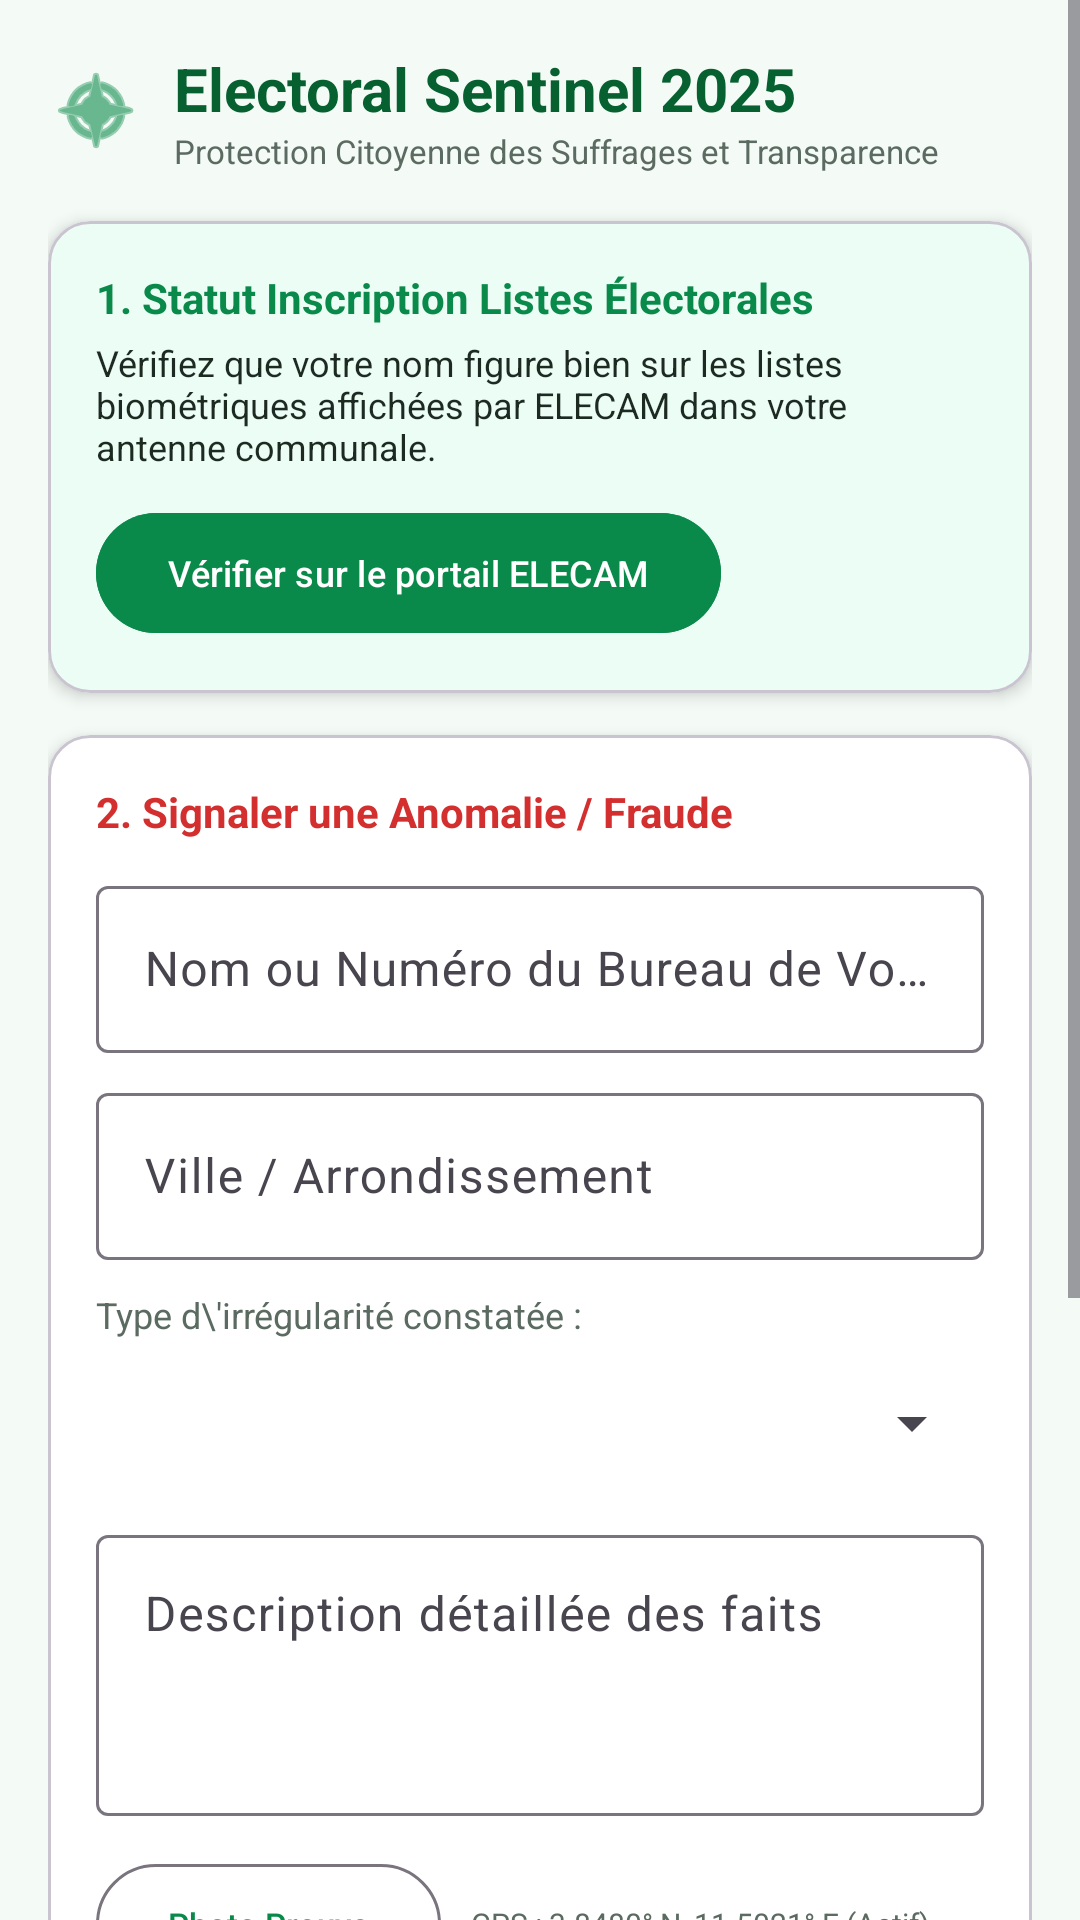

Icons on this 1080 x 1920 Android screen, each with its box as bbox=(x1, y1, x2, y2):
compass: bbox=(58, 73, 134, 148)
